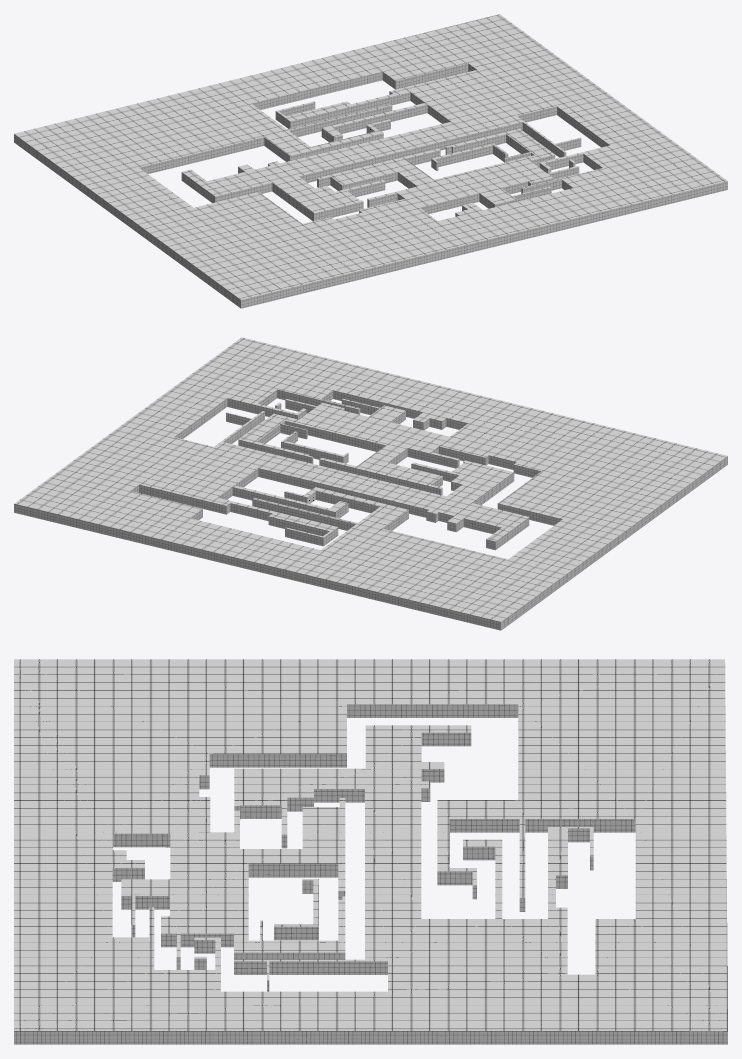
Rendered from newMapTextured01.FBX.
The picture shows the model from 3 angles, top to bottom: view 1: azimuth 30°, elevation 25°; view 2: azimuth 150°, elevation 25°; view 3: azimuth 270°, elevation 25°; orthographic projection. The views are drawn at different scales.
Parts seen in each view (by area): view 1: Line003; view 2: Line003; view 3: Line003.
Boxes of the visible parts, bbox=[...] form: Line003: bbox=[14, 14, 727, 308]; Line003: bbox=[14, 337, 727, 630]; Line003: bbox=[14, 659, 727, 1044].
Bounding box in the file's own units: 43552 × 750 × 35337.
Materials: 1 (1 with a texture image).
